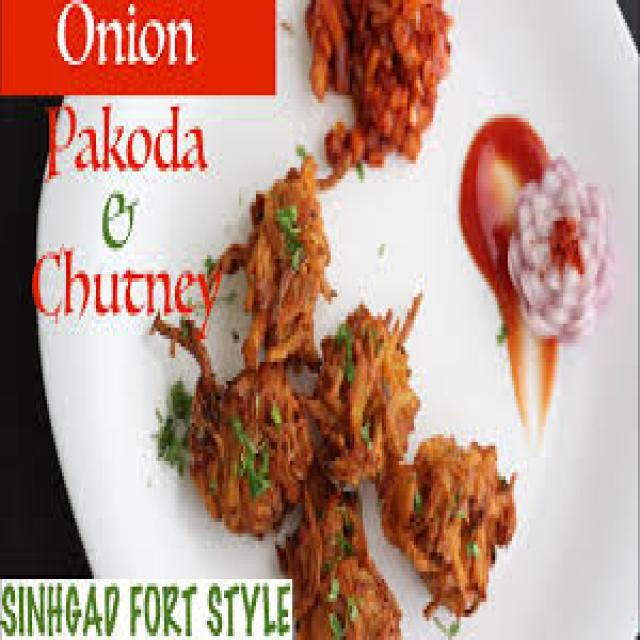BAJI: (380, 443, 511, 606), (194, 360, 309, 542), (230, 178, 323, 373), (319, 313, 414, 492), (299, 494, 394, 623)
